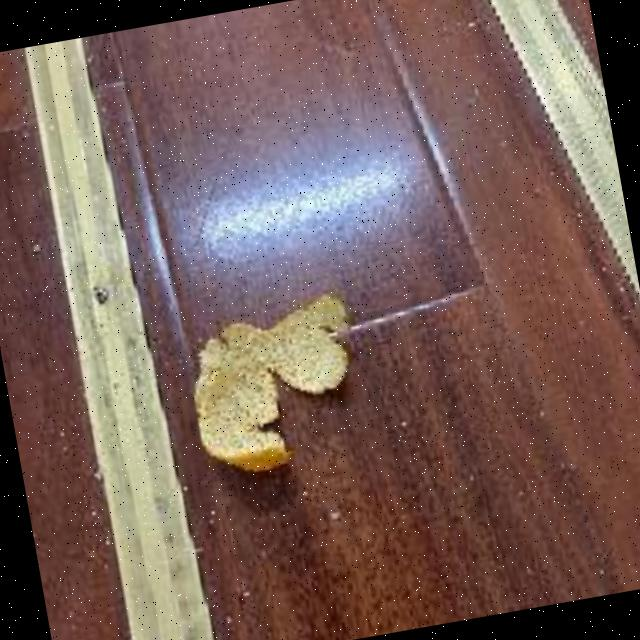orange-peel: (174, 284, 376, 486)
